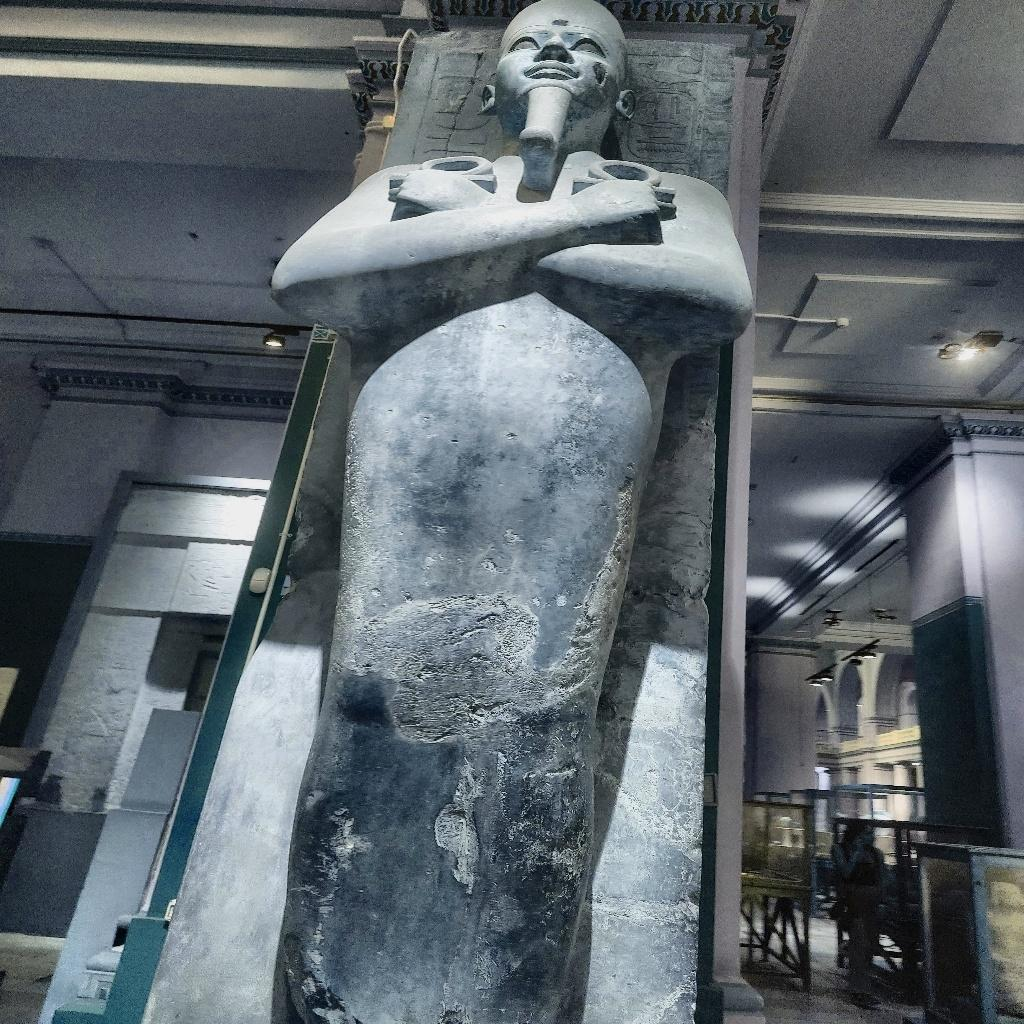Colossus of Senuseret I: (252, 4, 758, 1020)
